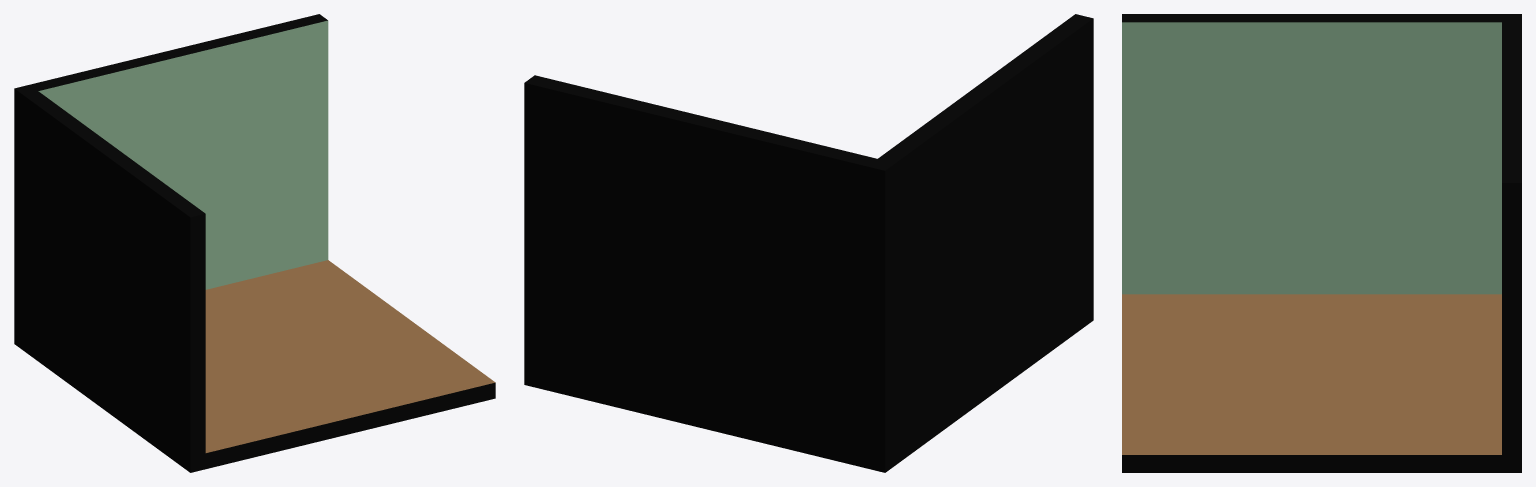
File: AboutMeRoom.gltf
3 renders of one model, left to right at view 1: azimuth 30°, elevation 25°; view 2: azimuth 150°, elevation 25°; view 3: azimuth 270°, elevation 25°, orthographic. The views are drawn at different scales.
Parts seen in each view (by area): view 1: Base; view 2: Base; view 3: Base.
Boxes of the visible parts, <box> form: Base: <box>14,14,495,472</box>; Base: <box>524,14,1093,472</box>; Base: <box>1122,14,1521,472</box>.
Size of the model in its own units: 20 by 16 by 20.
